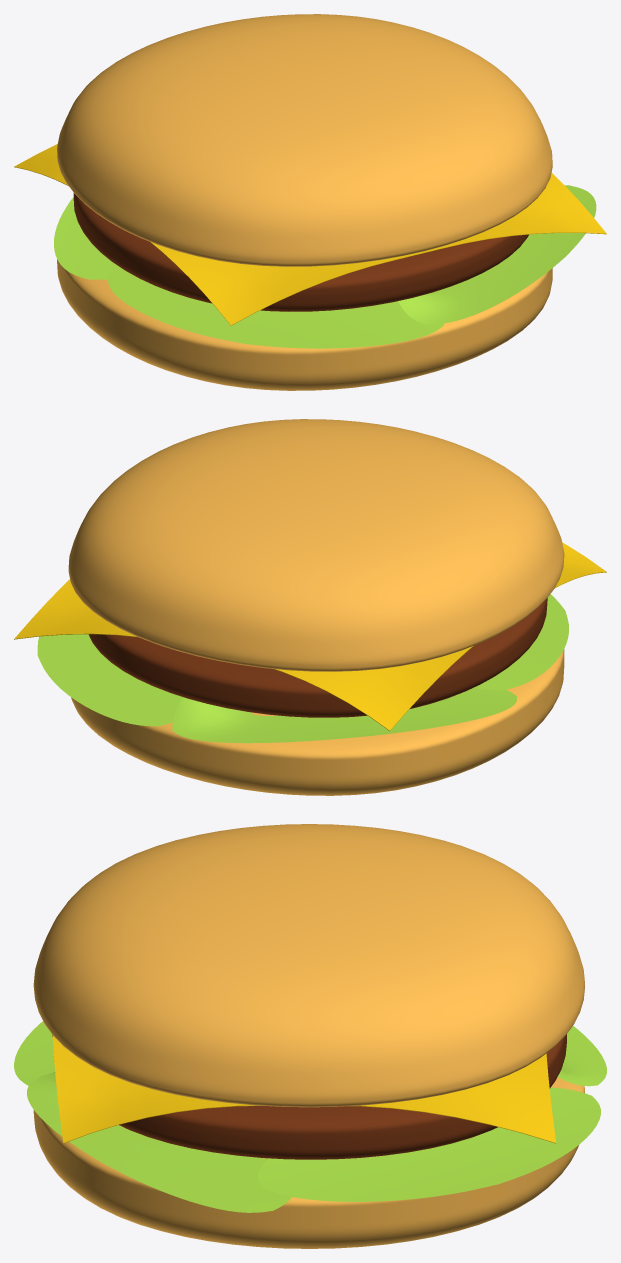
File: hamburger.glb
3 views of the same model, one above another, from view 1: azimuth 30°, elevation 25°; view 2: azimuth 150°, elevation 25°; view 3: azimuth 270°, elevation 25° (orthographic). The views are drawn at different scales.
Visible parts, largest first — view 1: Cube, Cube.001, Cube.002, Plane, Plane.003, Plane.002, Plane.004; view 2: Cube, Cube.001, Cube.002, Plane, Plane.004, Plane.001, Plane.003; view 3: Cube, Cube.001, Plane.001, Cube.002, Plane, Plane.002, Plane.004, Plane.003.
Part boxes in pixels (x1,y1,x2,y2): Cube: (57, 14, 552, 266); Cube.001: (57, 259, 552, 390); Cube.002: (73, 193, 528, 311); Plane: (14, 144, 606, 325); Plane.003: (108, 267, 443, 348); Plane.002: (398, 185, 596, 324); Plane.004: (54, 197, 120, 279); Cube: (68, 419, 564, 671); Cube.001: (71, 649, 564, 795); Cube.002: (88, 598, 547, 717); Plane: (14, 542, 606, 730); Plane.004: (172, 687, 516, 743); Plane.001: (37, 634, 182, 726); Plane.003: (474, 594, 568, 690); Cube: (33, 824, 584, 1107); Cube.001: (33, 1077, 584, 1248); Plane.001: (257, 1087, 600, 1201); Cube.002: (52, 1034, 566, 1159); Plane: (52, 1035, 556, 1143); Plane.002: (27, 1072, 291, 1212); Plane.004: (557, 1026, 606, 1086); Plane.003: (14, 1021, 54, 1085).
Bounding box in the file's own units: 10.2 × 5.03 × 9.78.
